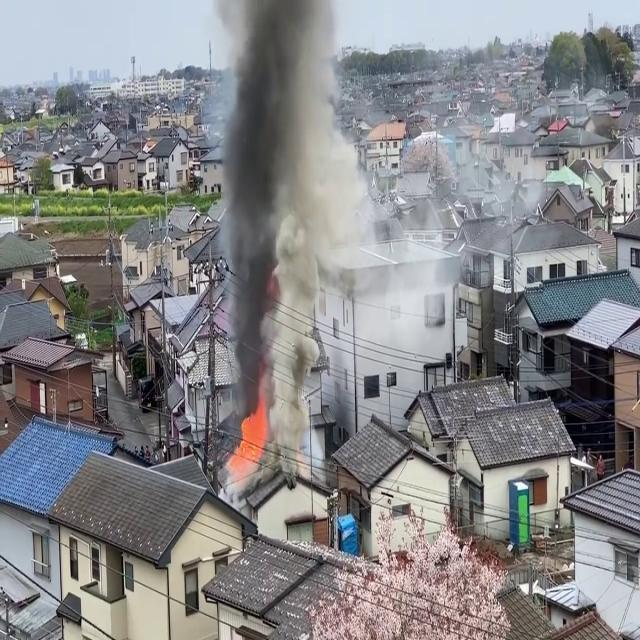Fire: (227, 397, 270, 484)
Smoke: (211, 0, 381, 452)
